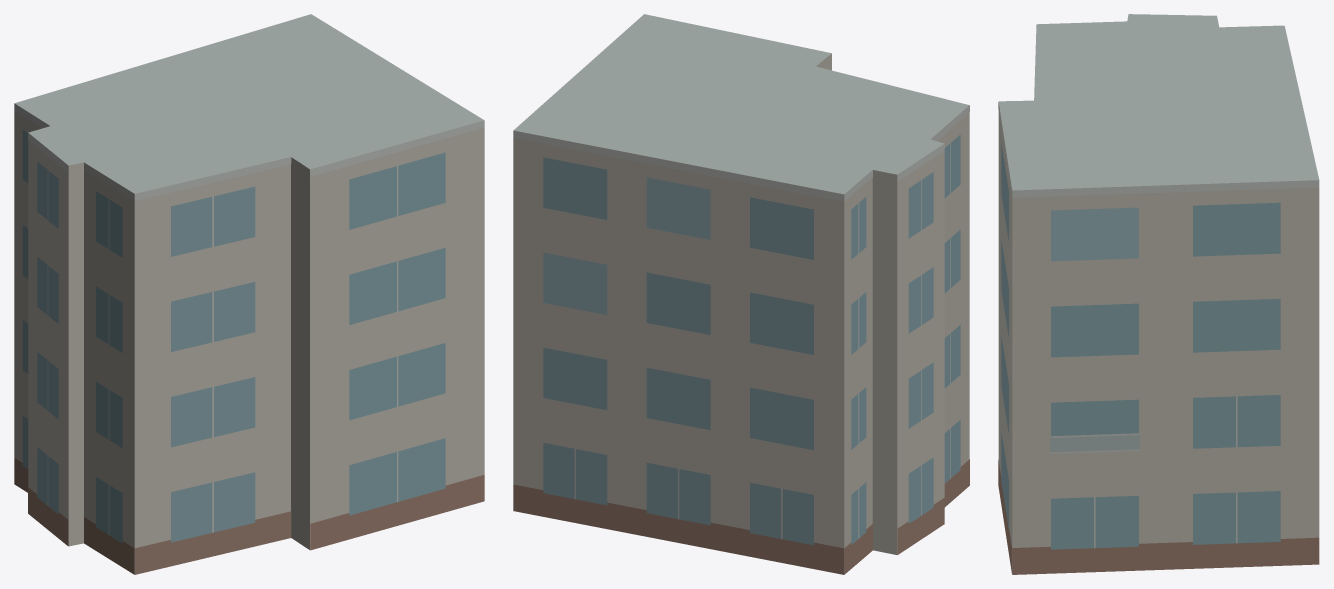
The model's file is survey-upis-32983972.glb.
3 views of the same model, side by side, from view 1: azimuth 30°, elevation 25°; view 2: azimuth 150°, elevation 25°; view 3: azimuth 270°, elevation 25° (orthographic).
Parts seen in each view (by area): view 1: survey-upis-32983972.tmp; view 2: survey-upis-32983972.tmp; view 3: survey-upis-32983972.tmp.
Boxes of the visible parts, x1=… form: survey-upis-32983972.tmp: x1=14, y1=14, x2=484, y2=574; survey-upis-32983972.tmp: x1=513, y1=14, x2=969, y2=574; survey-upis-32983972.tmp: x1=998, y1=14, x2=1319, y2=574.
Bounding box in the file's own units: 12.52 × 12.7 × 9.62.
